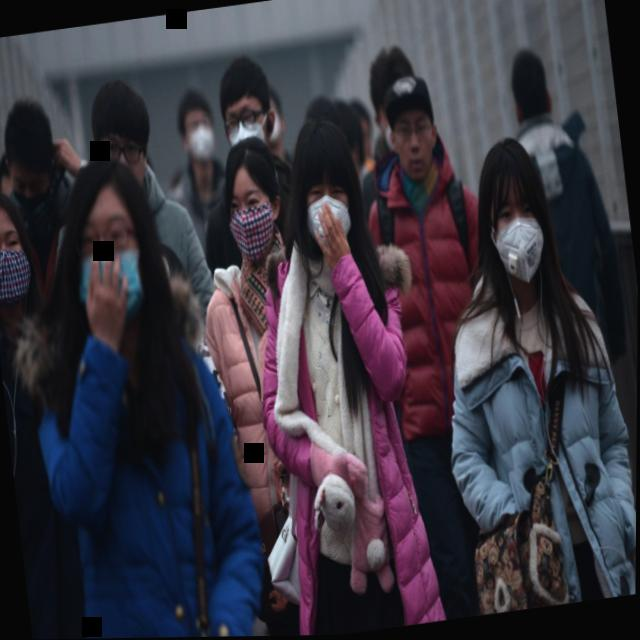Mask: (53, 152, 165, 347), (461, 122, 561, 302), (284, 110, 368, 273), (210, 132, 293, 270), (0, 179, 44, 319), (167, 82, 221, 168)
NO-Mask: (79, 64, 161, 200), (380, 69, 447, 189)
